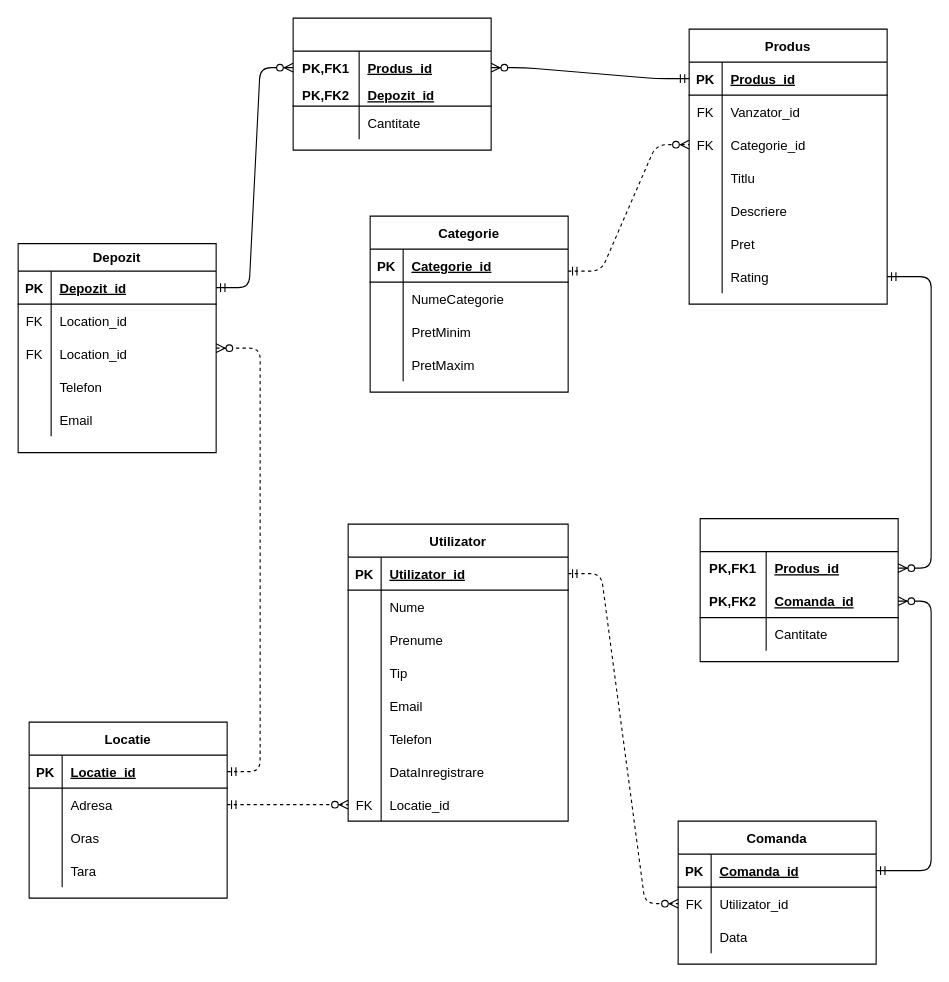
The diagram is 949 pixels wide and 982 high, and some of its shapes have lost their labels. Here are the shapes that lost their labels. From the top down, the box of each, then its label:
(292, 17, 491, 150): StocDepozit
(699, 518, 898, 662): PlasareComanda
